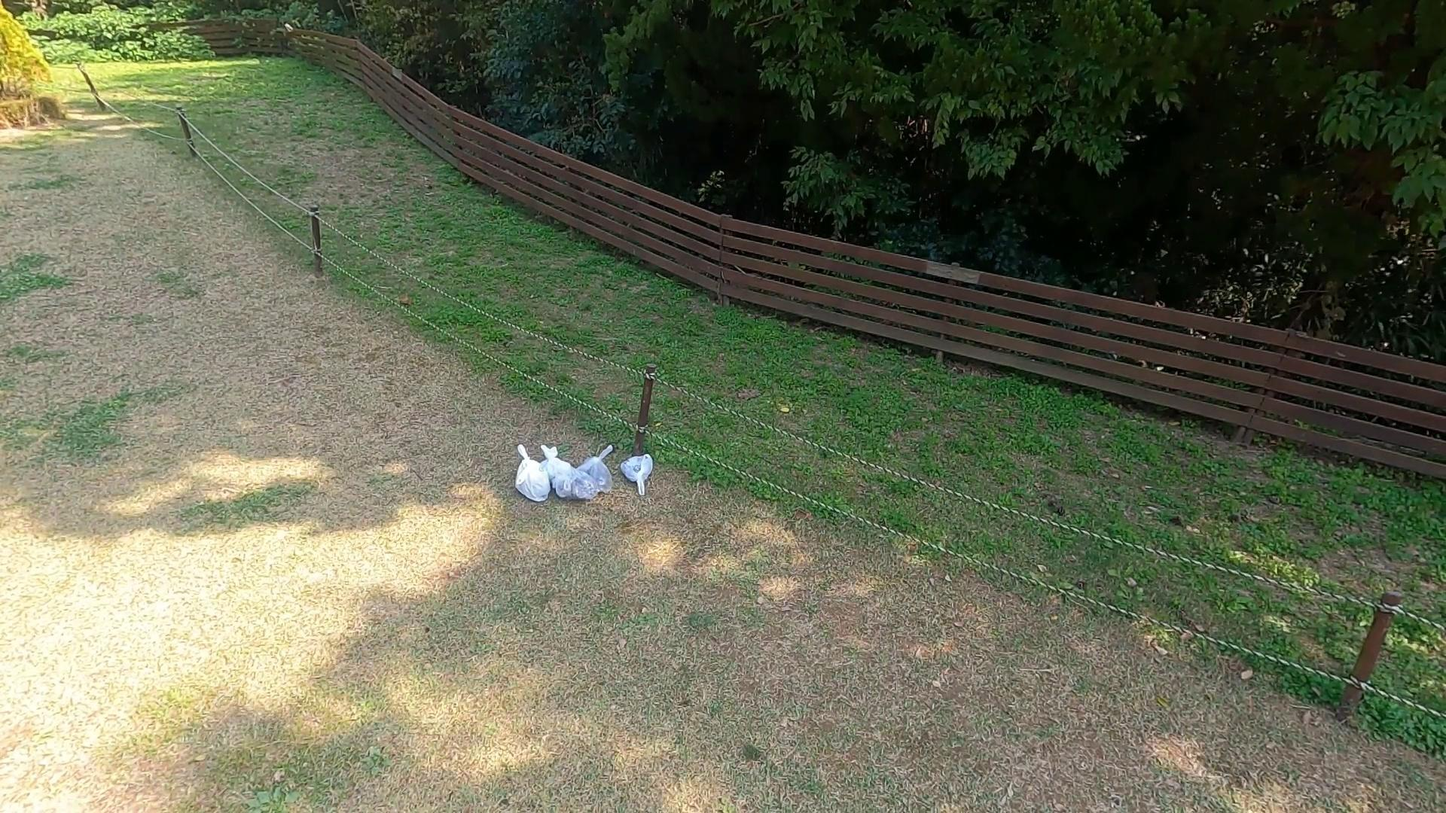trash: (526, 440, 581, 498), (546, 455, 601, 504), (512, 439, 555, 501), (569, 447, 619, 500), (615, 452, 657, 499)
